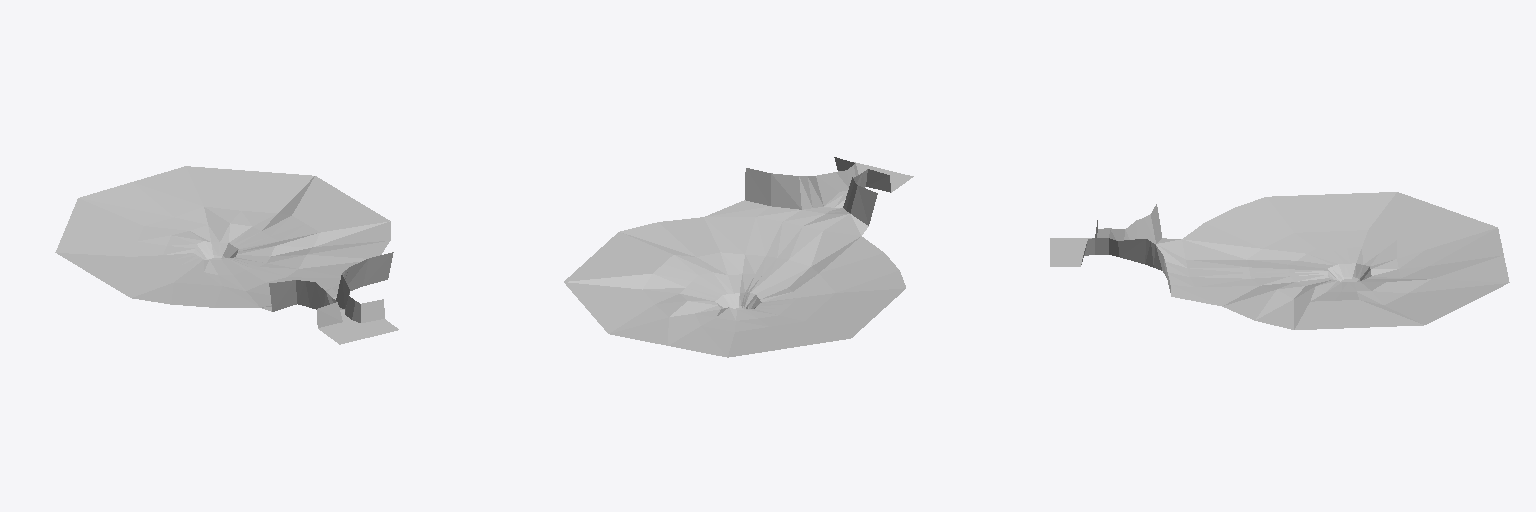
Rendered from LevelA.obj.
3 views of the same model, side by side, from view 1: azimuth 30°, elevation 25°; view 2: azimuth 150°, elevation 25°; view 3: azimuth 270°, elevation 25° (orthographic).
Visible parts, largest first — view 1: Plane; view 2: Plane; view 3: Plane.
Boxes of the visible parts, x1=… form: Plane: x1=55, y1=166, x2=398, y2=344; Plane: x1=564, y1=157, x2=913, y2=357; Plane: x1=1050, y1=192, x2=1509, y2=329.
Size of the model in its own units: 90.97 by 17.99 by 128.